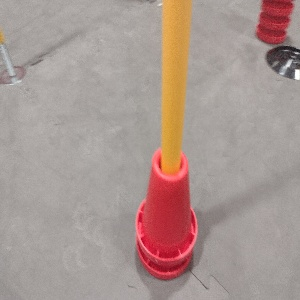Red_2: (129, 146, 197, 279)
Red_3: (255, 0, 293, 44)
